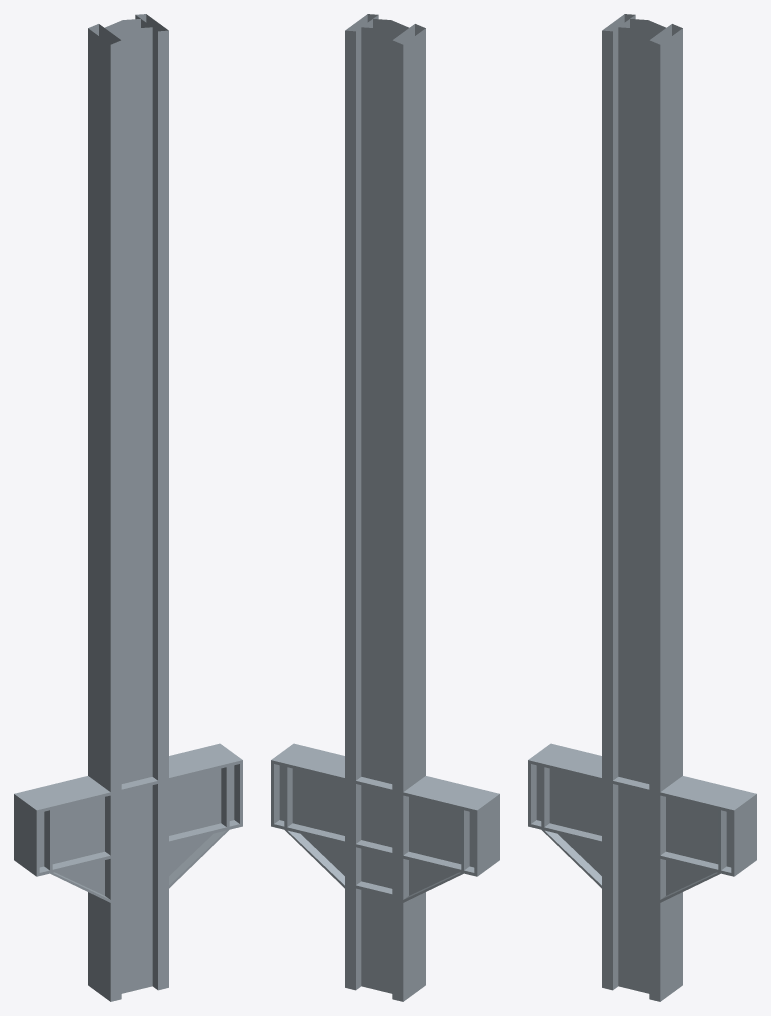
The model's file is SM06_Building_Structure_Column_Gable_Top_01.fbx.
3 views of the same model, side by side, from view 1: azimuth 30°, elevation 25°; view 2: azimuth 150°, elevation 25°; view 3: azimuth 330°, elevation 25° (orthographic).
Visible parts, largest first — view 1: SM06_Building_Structure_Column_Gable_Top_01; view 2: SM06_Building_Structure_Column_Gable_Top_01; view 3: SM06_Building_Structure_Column_Gable_Top_01.
Boxes of the visible parts, <box> form: SM06_Building_Structure_Column_Gable_Top_01: <box>14,14,242,1001</box>; SM06_Building_Structure_Column_Gable_Top_01: <box>271,14,499,1001</box>; SM06_Building_Structure_Column_Gable_Top_01: <box>528,14,756,1001</box>.
Size of the model in its own units: 2.09 by 9.32 by 0.3976.
